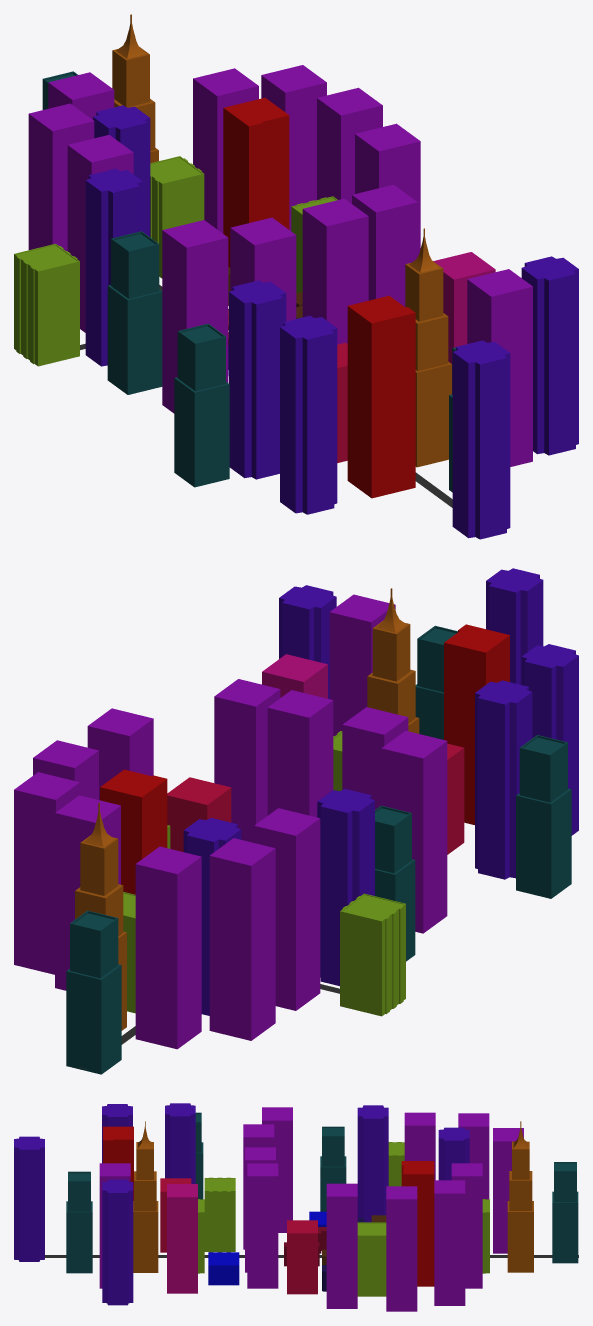
File: SM_City.fbx
3 renders of one model, top to bottom at view 1: azimuth 30°, elevation 25°; view 2: azimuth 150°, elevation 25°; view 3: azimuth 270°, elevation 25°, orthographic. The views are drawn at different scales.
Visible parts, largest first — view 1: SM_Buildings; view 2: SM_Buildings; view 3: SM_Buildings, SM_Road.
Part boxes in pixels (x1,y1,x2,y2): SM_Buildings: (14,14,578,539); SM_Buildings: (14,568,578,1074); SM_Buildings: (14,1103,578,1311); SM_Road: (45,1255,578,1257).
Size of what is drawn, in the model's own units: 63000 by 38940 by 136722.
